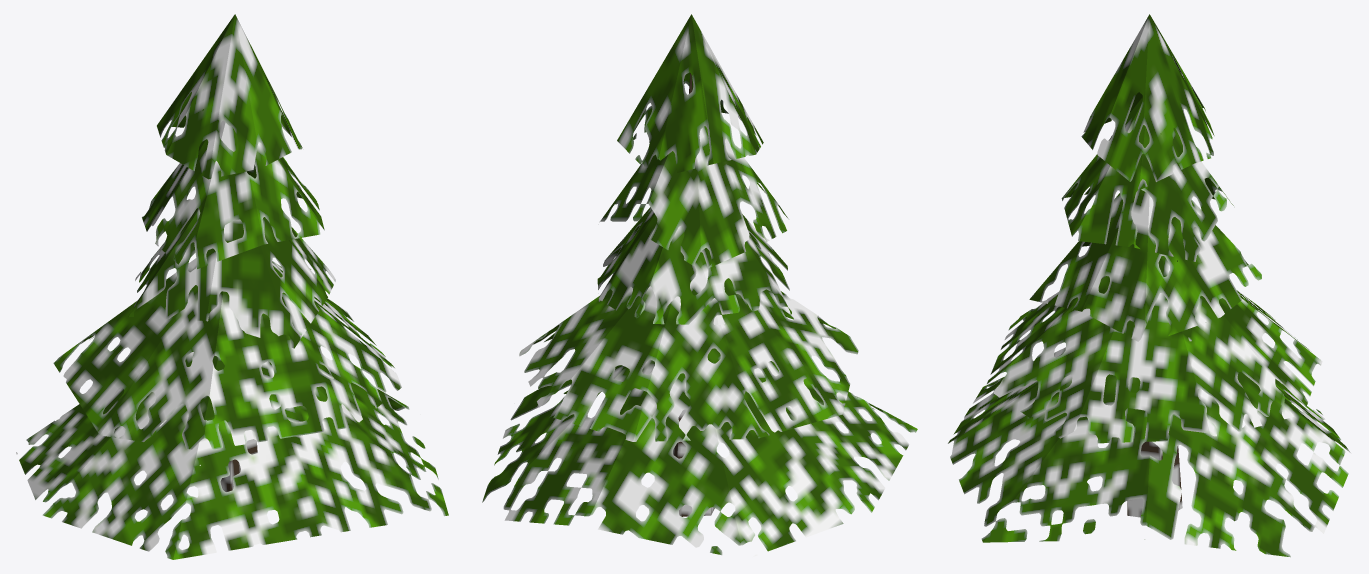
Rendered from pine_tree_snow_large.obj.
3 views of the same model, side by side, from view 1: azimuth 30°, elevation 25°; view 2: azimuth 150°, elevation 25°; view 3: azimuth 270°, elevation 25° (orthographic).
Visible parts, largest first — view 1: pine_tree_large_pine_tree_large_mesh; view 2: pine_tree_large_pine_tree_large_mesh; view 3: pine_tree_large_pine_tree_large_mesh.
Part boxes in pixels (x1,y1,x2,y2): pine_tree_large_pine_tree_large_mesh: (16, 14, 448, 559); pine_tree_large_pine_tree_large_mesh: (482, 14, 917, 556); pine_tree_large_pine_tree_large_mesh: (948, 14, 1351, 557).
Size of the model in its own units: 5.18 by 6.68 by 5.01.
